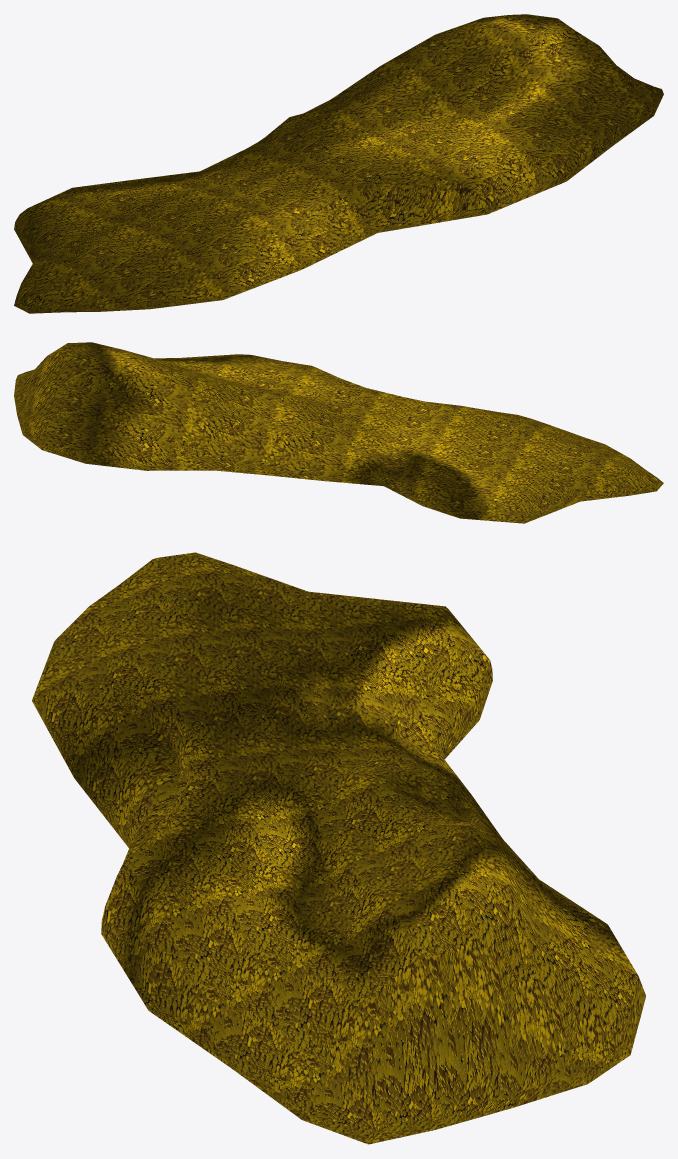
File: CH09_SMAUG_PLAYSURFACE_LAIR82.fbx
3 views of the same model, one above another, from view 1: azimuth 30°, elevation 25°; view 2: azimuth 150°, elevation 25°; view 3: azimuth 270°, elevation 25° (orthographic). The views are drawn at different scales.
Visible parts, largest first — view 1: CH09_SMAUG_PLAYSURFACE_LAIR82; view 2: CH09_SMAUG_PLAYSURFACE_LAIR82; view 3: CH09_SMAUG_PLAYSURFACE_LAIR82.
Boxes of the visible parts, <box> form: CH09_SMAUG_PLAYSURFACE_LAIR82: <box>14,14,663,313</box>; CH09_SMAUG_PLAYSURFACE_LAIR82: <box>14,342,663,523</box>; CH09_SMAUG_PLAYSURFACE_LAIR82: <box>32,552,645,1144</box>.
Size of the model in its own units: 393265 by 47765 by 175815.
Materials: 1 (1 with a texture image).
